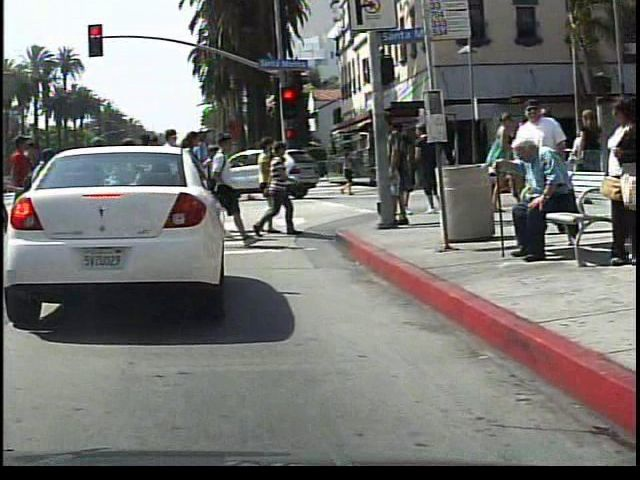person: (490, 130, 584, 261), (580, 85, 638, 271), (474, 106, 520, 215), (332, 145, 357, 196)
